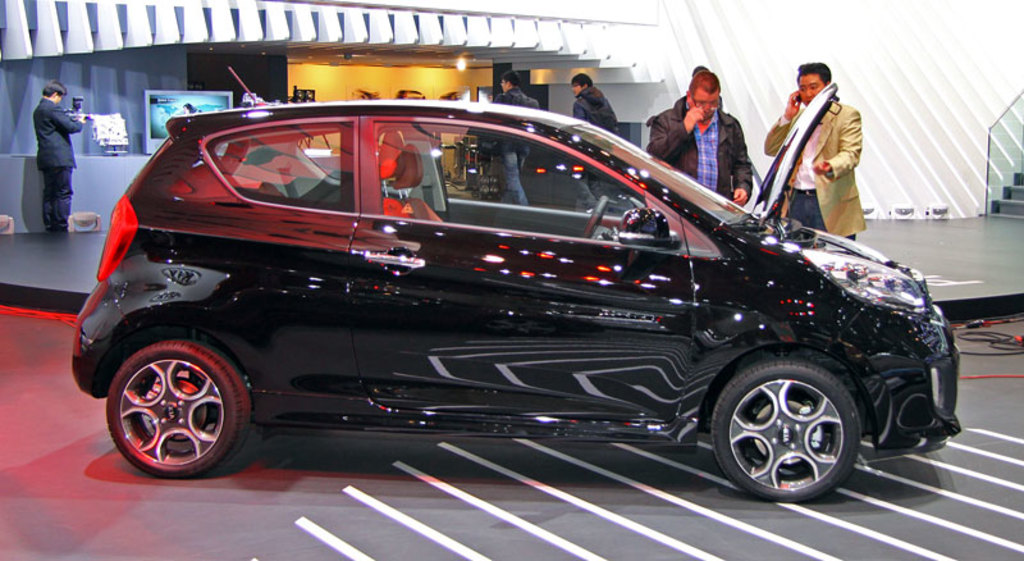Car: (74, 94, 958, 509)
